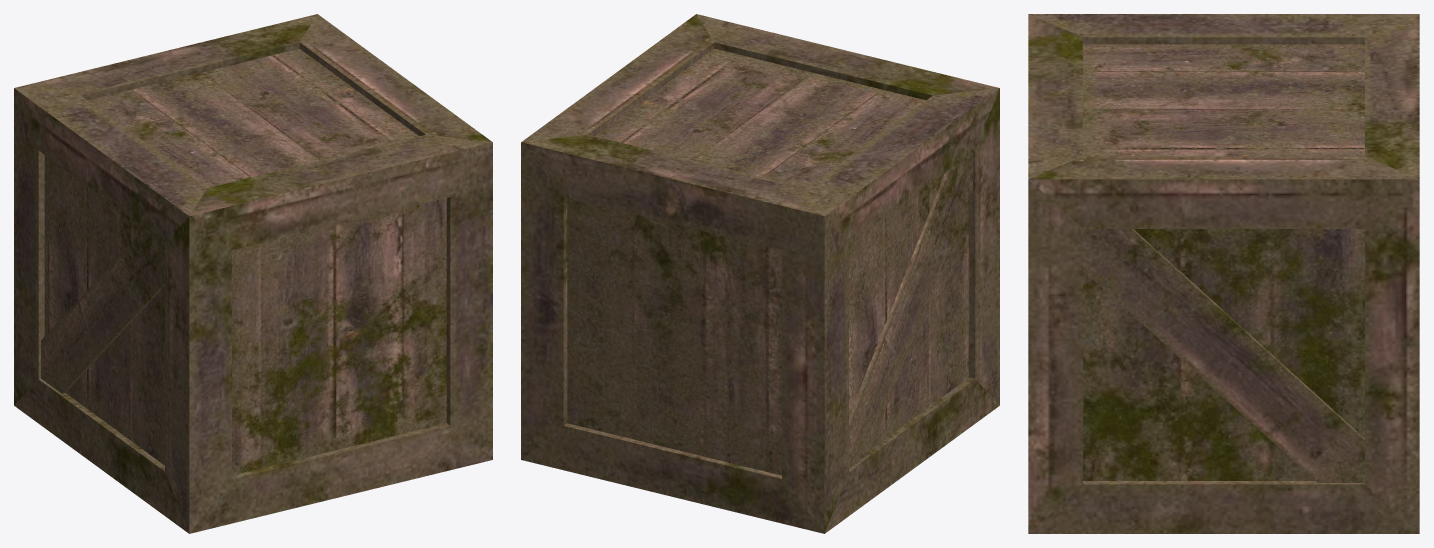
Rendered from crate_mossy_boarded.glb.
3 renders of one model, left to right at view 1: azimuth 30°, elevation 25°; view 2: azimuth 150°, elevation 25°; view 3: azimuth 270°, elevation 25°, orthographic. The views are drawn at different scales.
Parts seen in each view (by area): view 1: crate_mossy_boarded; view 2: crate_mossy_boarded; view 3: crate_mossy_boarded.
Part boxes in pixels (x1,y1,x2,y2): crate_mossy_boarded: (14,14,492,533); crate_mossy_boarded: (521,14,999,533); crate_mossy_boarded: (1028,14,1419,533).
Size of the model in its own units: 0.635 by 0.635 by 0.635.
1 material, 1 textured.
